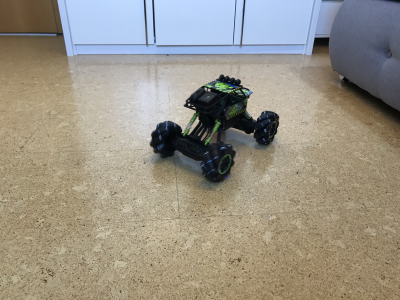remote control car: (145, 71, 282, 184)
